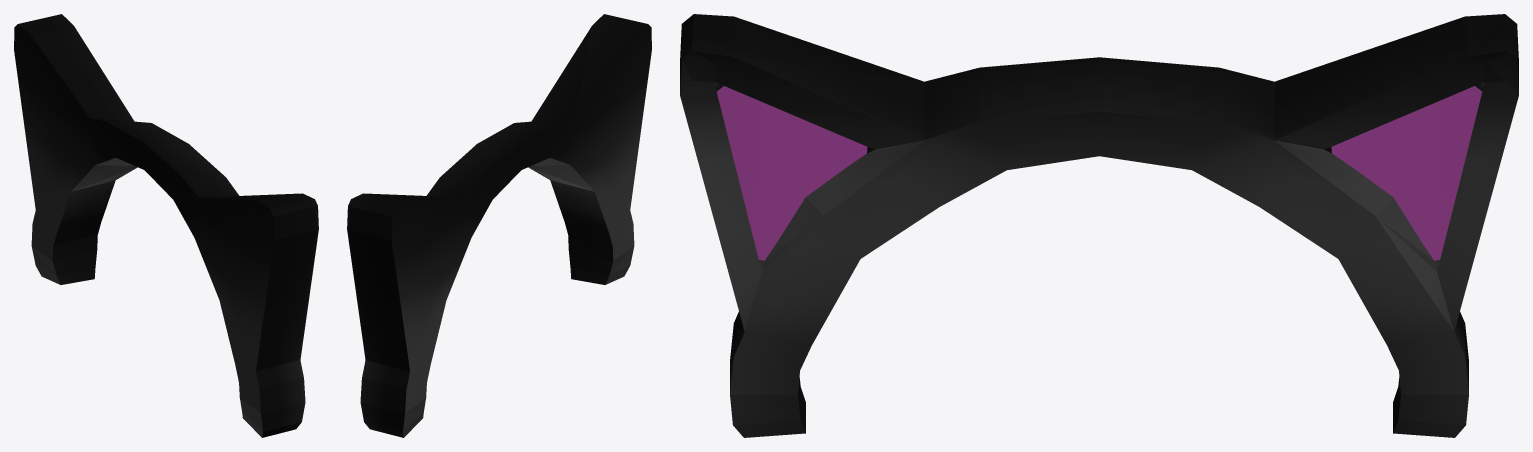
File: CAT EARS.fbx
The picture shows the model from 3 angles, left to right: view 1: azimuth 30°, elevation 25°; view 2: azimuth 150°, elevation 25°; view 3: azimuth 270°, elevation 25°; orthographic projection. The views are drawn at different scales.
Parts seen in each view (by area): view 1: CAT_EARS; view 2: CAT_EARS; view 3: CAT_EARS.
Boxes of the visible parts, x1=… form: CAT_EARS: x1=14, y1=14, x2=318, y2=437; CAT_EARS: x1=347, y1=14, x2=651, y2=437; CAT_EARS: x1=680, y1=14, x2=1518, y2=437.
Size of the model in its own units: 2.97 by 14.68 by 28.5.
